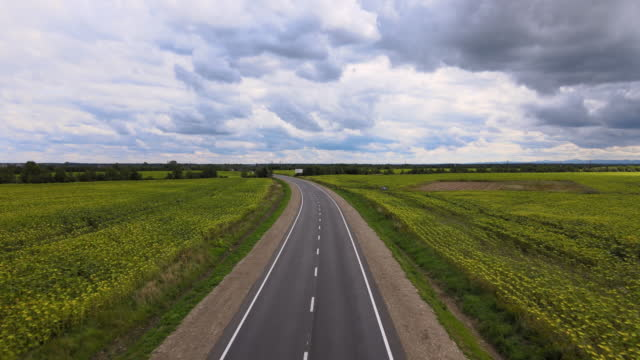straightRoad: (254, 192, 397, 355)
